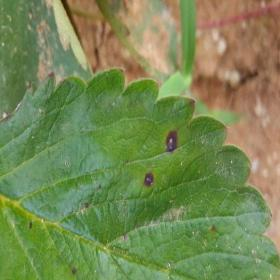Leaf Spot: (0, 68, 279, 279)
